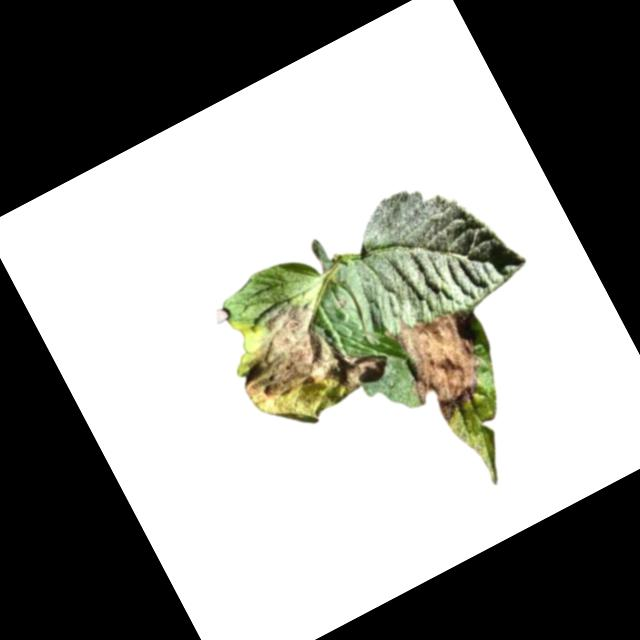Late_blight: (219, 275, 401, 446), (384, 296, 506, 430)
healthy: (325, 155, 531, 350)
